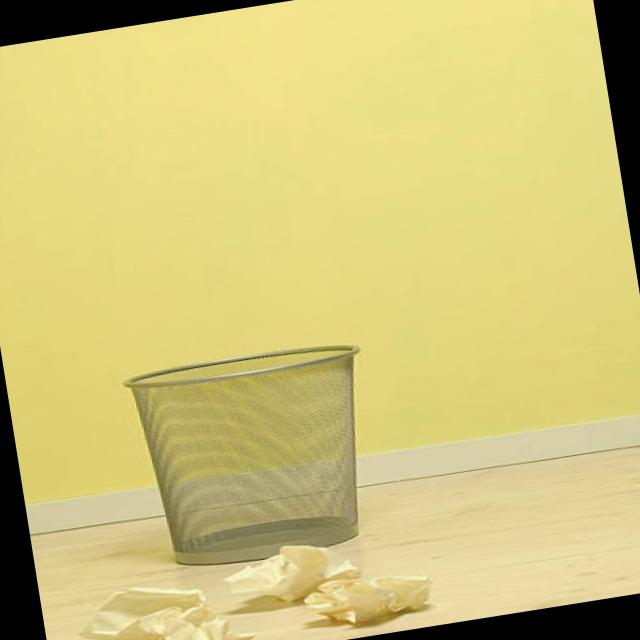electronic: (218, 534, 362, 612), (300, 564, 435, 632), (75, 575, 208, 640)
